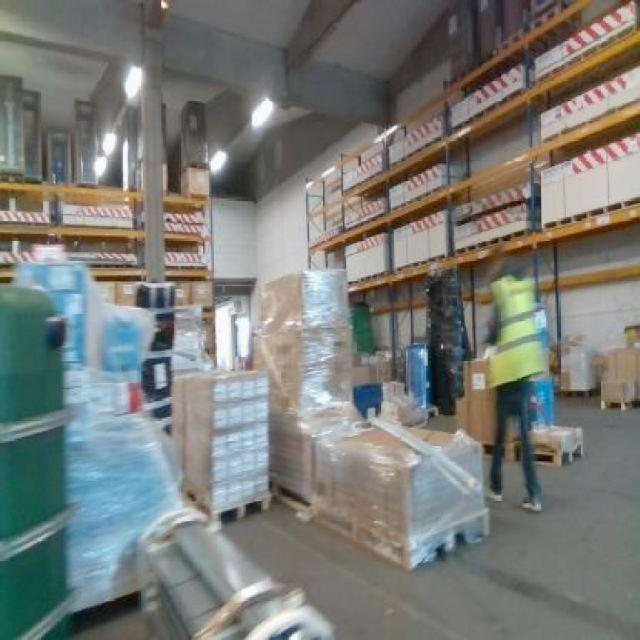pallets: (314, 426, 486, 566), (171, 369, 266, 512)
